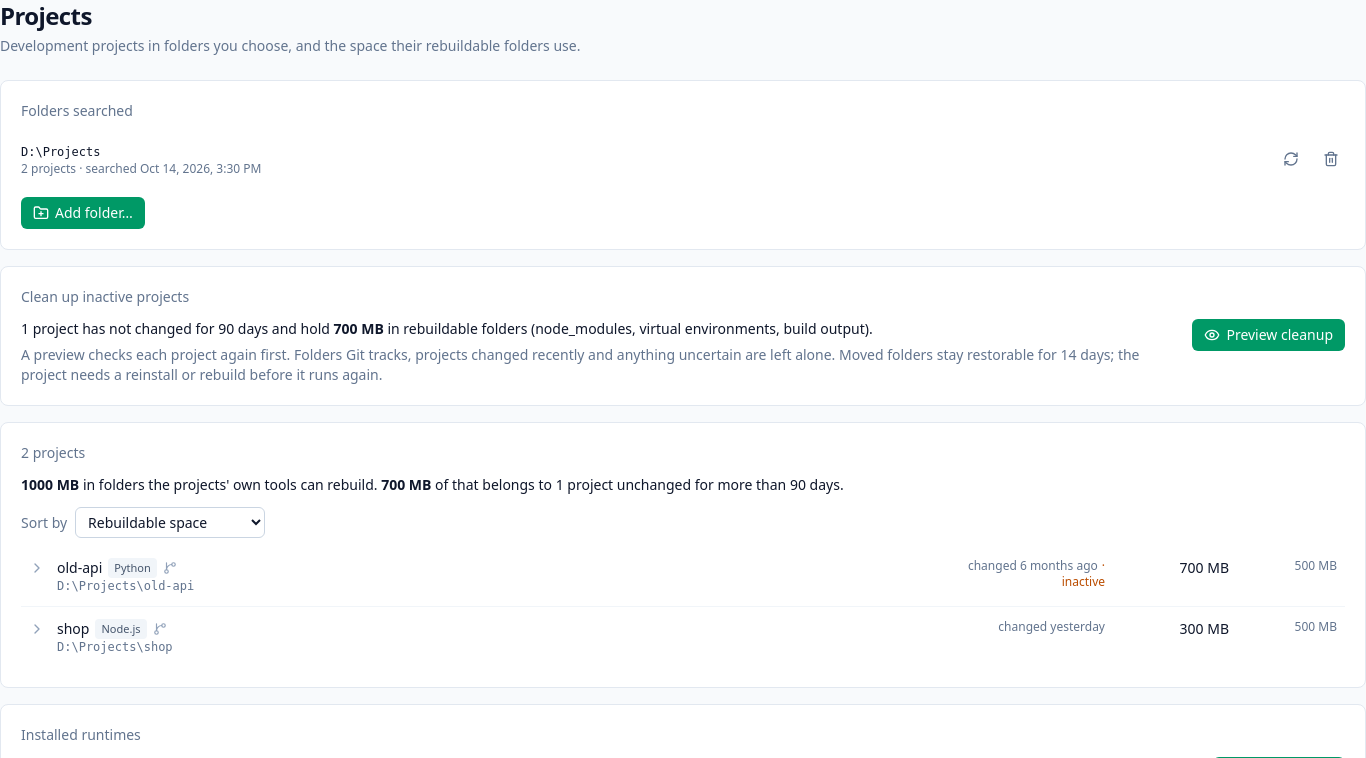
Test: inactive project cleanup › previews only inactive projects and moves only confirmed eligible folders
What coordinates should you click on to do the following:
click the button "Preview cleanup"
I would click on:
 (1269, 335)
Its box is 1192,319 -> 1345,351.
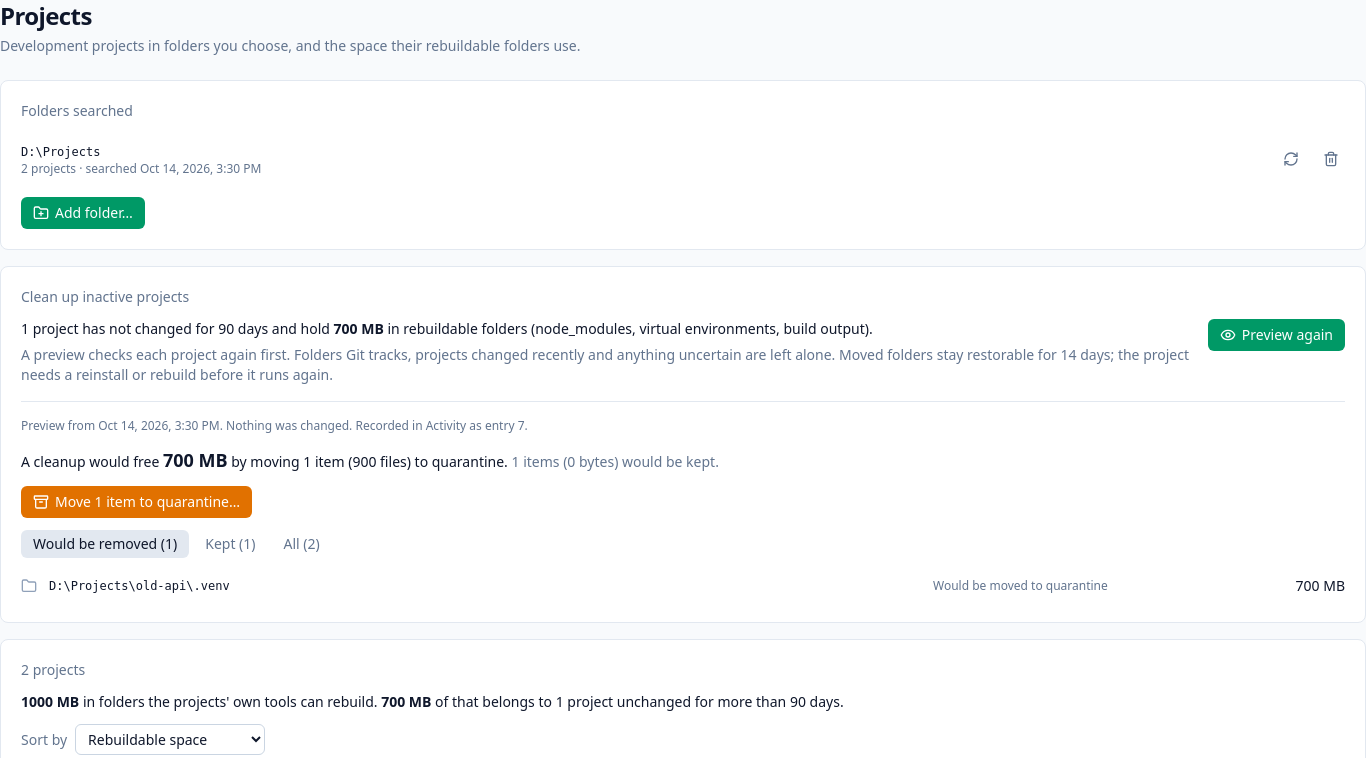
What coordinates should you click on to do the following:
click the tab "Kept (1)"
I would click on:
 (230, 544)
Its box is 193,530 -> 268,558.
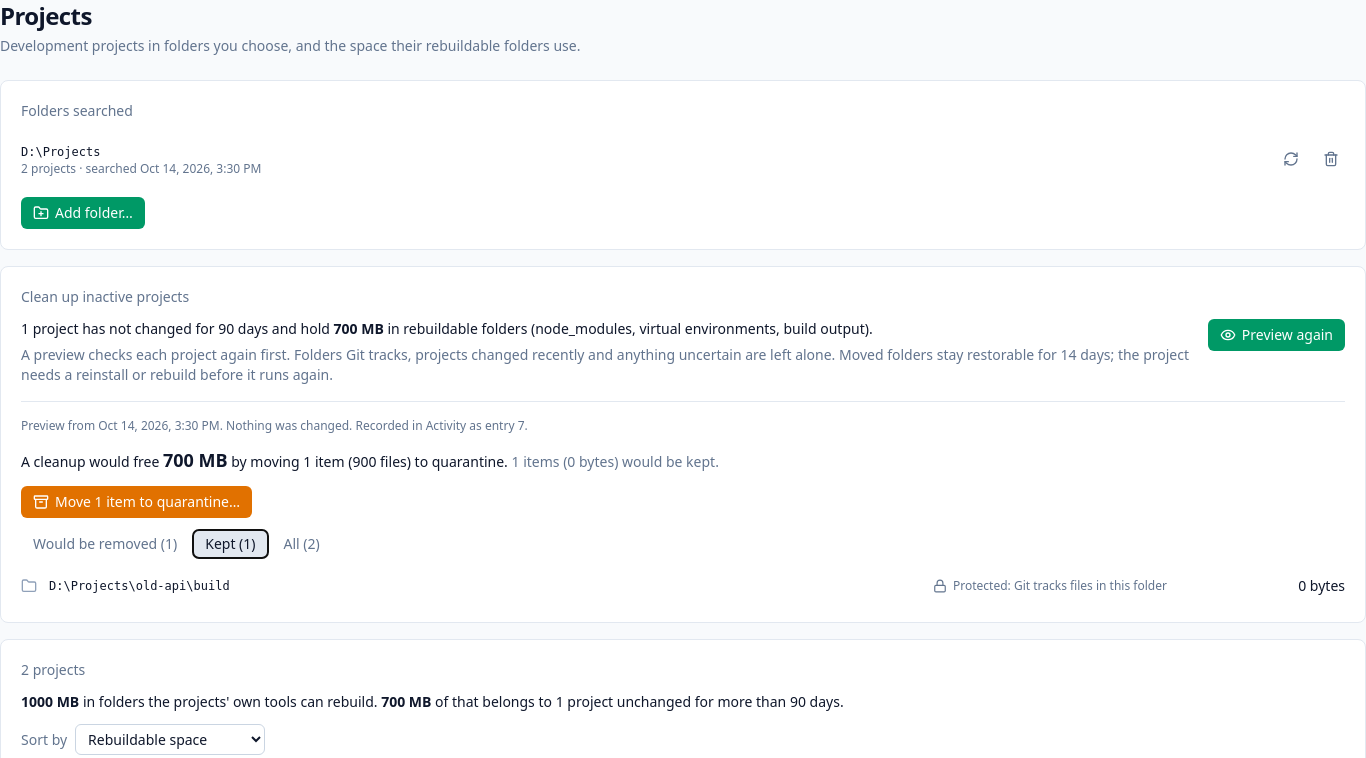
Expected: the text "Protected: Git tracks files in this folder" is shown, 933,577 -> 1167,594
What coordinates should you click on to do the following:
click the button "Move 1 item to quarantine…"
I would click on:
 (137, 502)
Its box is 21,486 -> 252,518.
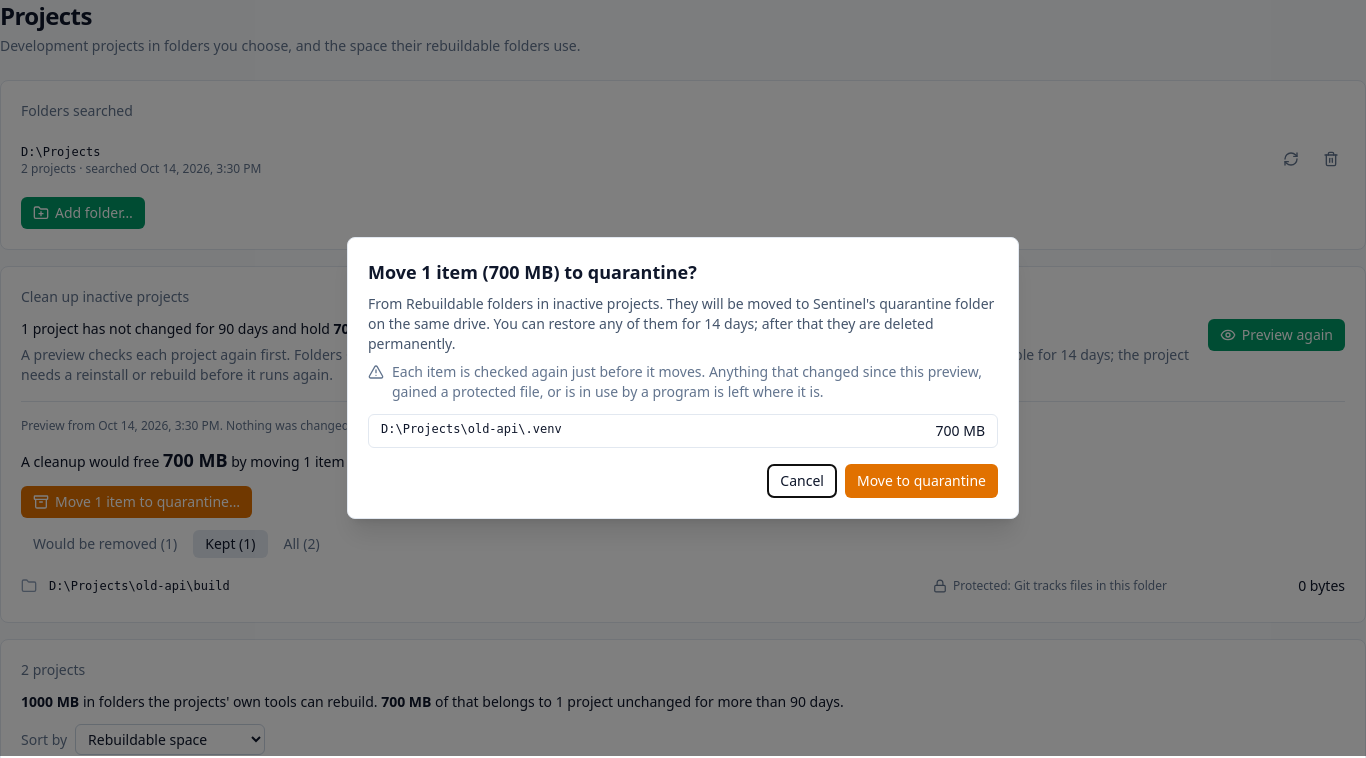
What coordinates should you click on to do the following:
click the button "Move to quarantine"
I would click on:
 (922, 481)
Its box is 845,464 -> 998,498.
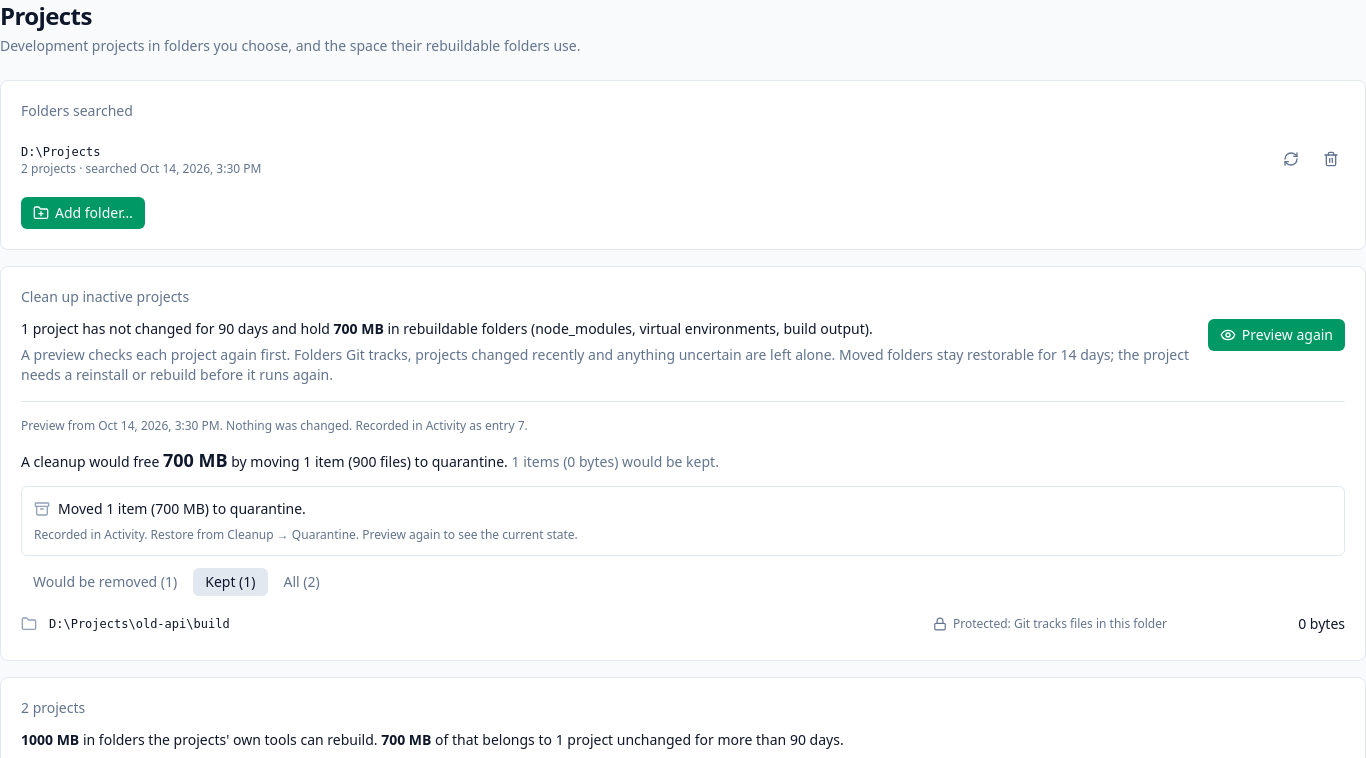
Expected: the message shows "Moved 1 item (700 MB) to quarantine.", 21,486 -> 1345,556
